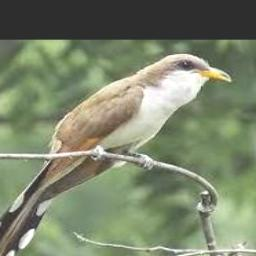Cuckoo: (0, 54, 230, 256)
